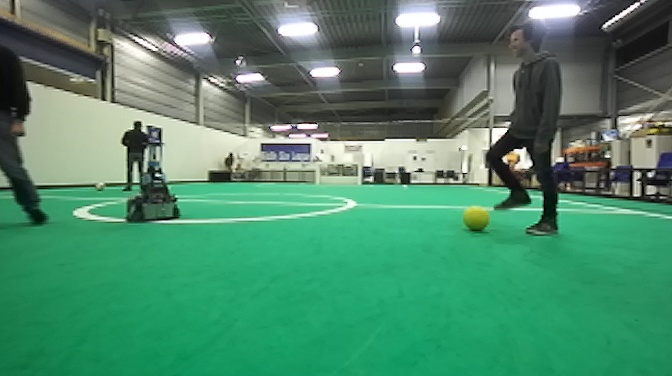ball: (460, 203, 491, 234), (93, 179, 108, 192)
goal: (314, 162, 362, 186)
goalpost: (315, 161, 321, 186), (357, 161, 362, 186)
human: (483, 24, 566, 238), (1, 42, 54, 229), (120, 119, 148, 193)
robot: (124, 137, 179, 224)
